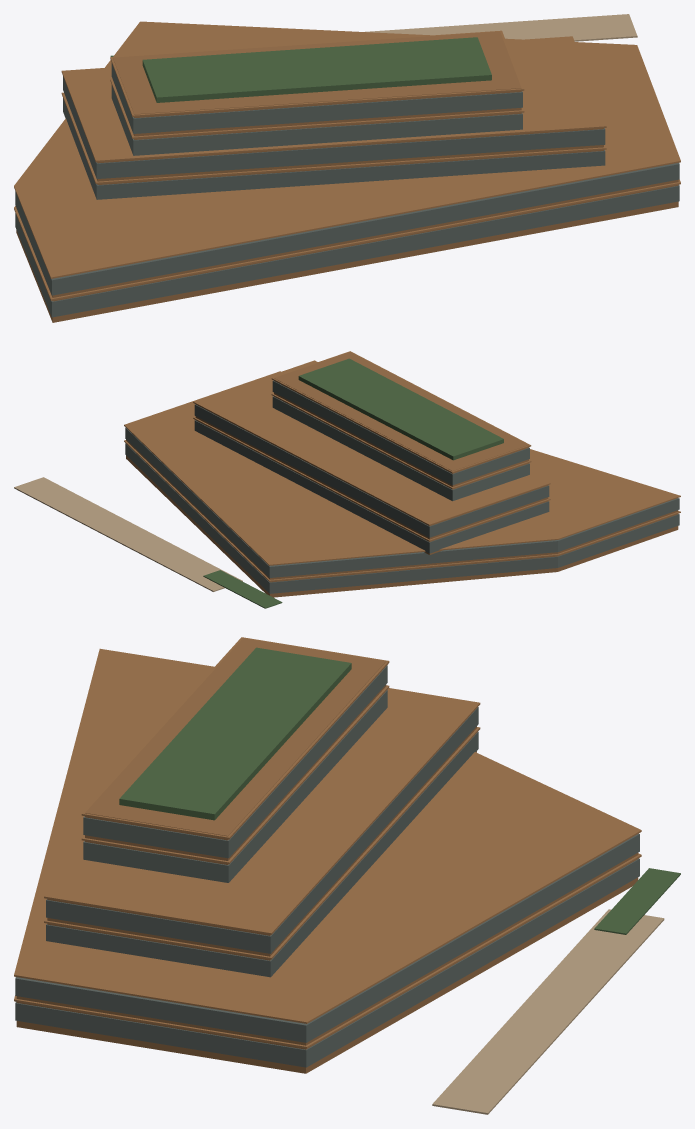
The model's file is foundry-park-south.glb.
3 views of the same model, one above another, from view 1: azimuth 30°, elevation 25°; view 2: azimuth 150°, elevation 25°; view 3: azimuth 270°, elevation 25° (orthographic). The views are drawn at different scales.
Visible parts, largest first — view 1: timber-podium; view 2: timber-podium; view 3: timber-podium.
Boxes of the visible parts, bbox=[...] form: timber-podium: bbox=[14, 14, 680, 322]; timber-podium: bbox=[14, 351, 680, 608]; timber-podium: bbox=[14, 637, 680, 1114].
Size of the model in its own units: 115 by 19.5 by 78.32.
